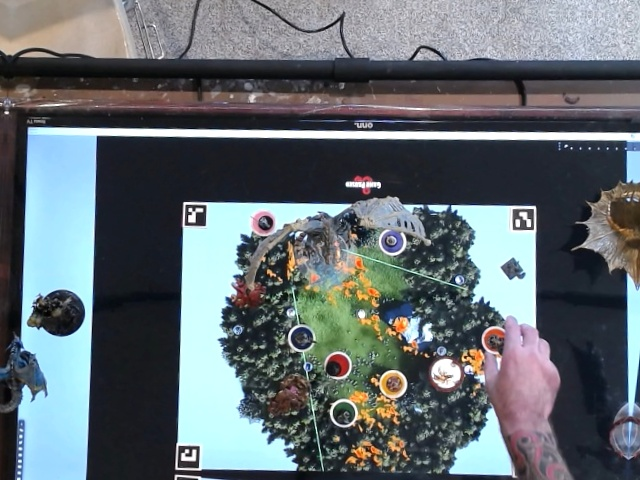blue: (279, 320, 321, 355)
green: (323, 391, 361, 430)
orange: (472, 320, 511, 360)
pink: (248, 208, 275, 238)
red: (319, 349, 356, 381)
violet: (374, 224, 411, 257)
yellow: (375, 367, 410, 400)
